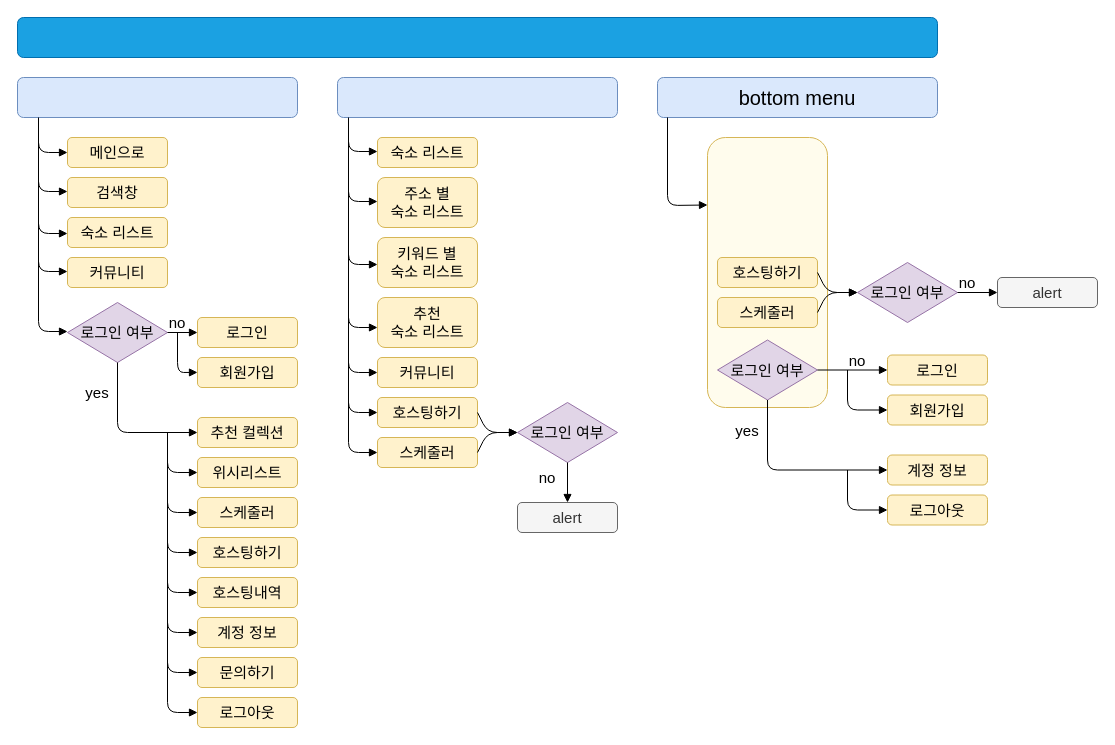
The diagram is 1115 pixels wide and 745 high, and some of its shapes have lost their labels. The shapes that lost their labels are listed below. From the top down, each one's box as (x1, y1, x2, y2) in pixels, then its label:
(16, 16, 938, 58): index.jsp
(16, 76, 298, 118): top menu
(336, 76, 618, 118): main page
(706, 136, 828, 408): 모든 페이지 (사이트맵 역할)
